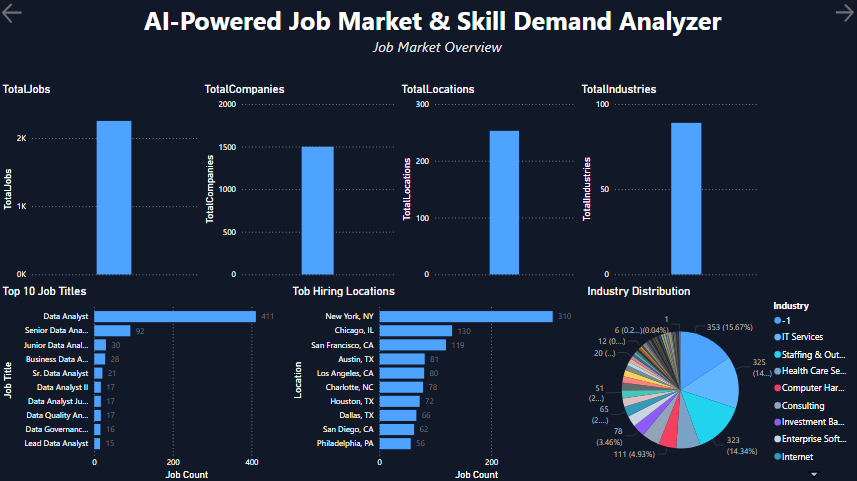

What the dashboard file says about the page in this screenshot:
{"tool":"powerbi","page":{"name":"Page 1","canvas":[1280,720],"ordinal":0},"visuals":[{"type":"cardVisual","box":[10,0,280,280],"z":0},{"type":"clusteredColumnChart","fields":{"Y":["Sheet1.TotalJobs"]},"box":[0,0,300.7,300.7],"z":1000},{"type":"clusteredColumnChart","fields":{"Y":["Sheet1.TotalCompanies"]},"box":[216.6,0,294,301.1],"z":2000},{"type":"clusteredColumnChart","fields":{"Y":["Sheet1.TotalLocations"]},"box":[433.1,0,269.4,301.1],"z":3000},{"type":"clusteredColumnChart","fields":{"Y":["Sheet1.TotalIndustries"]},"box":[702.5,0,274.7,301.1],"z":4000},{"type":"clusteredBarChart","title":"Top 10 Job Titles","fields":{"Category":["Sheet1.Job Title"],"Y":["Sheet1.TotalJobs"]},"box":[0,301.1,433.1,419],"z":5000},{"type":"clusteredBarChart","title":"Tob Hiring Locations","fields":{"Category":["Sheet1.Location"],"Y":["Sheet1.TotalJobs"]},"box":[433.1,301.1,440.2,419],"z":6000},{"type":"pieChart","title":"Industry Distribution","fields":{"Category":["Sheet1.Industry"],"Y":["Sheet1.TotalJobs"]},"box":[873.3,301.1,406.7,419],"z":7000}]}

Visuals, with their boxes in screenshot pixels (x1, y1, x2, y2), scaled from the page's 1280x720 canvas onto the 857x481 screenshot:
cardVisual: l=7, t=0, r=194, b=187
clusteredColumnChart - Sheet1.TotalJobs: l=0, t=0, r=201, b=201
clusteredColumnChart - Sheet1.TotalCompanies: l=145, t=0, r=342, b=201
clusteredColumnChart - Sheet1.TotalLocations: l=290, t=0, r=470, b=201
clusteredColumnChart - Sheet1.TotalIndustries: l=470, t=0, r=654, b=201
"Top 10 Job Titles" clusteredBarChart: l=0, t=201, r=290, b=480
"Tob Hiring Locations" clusteredBarChart: l=290, t=201, r=585, b=480
"Industry Distribution" pieChart: l=585, t=201, r=856, b=480
